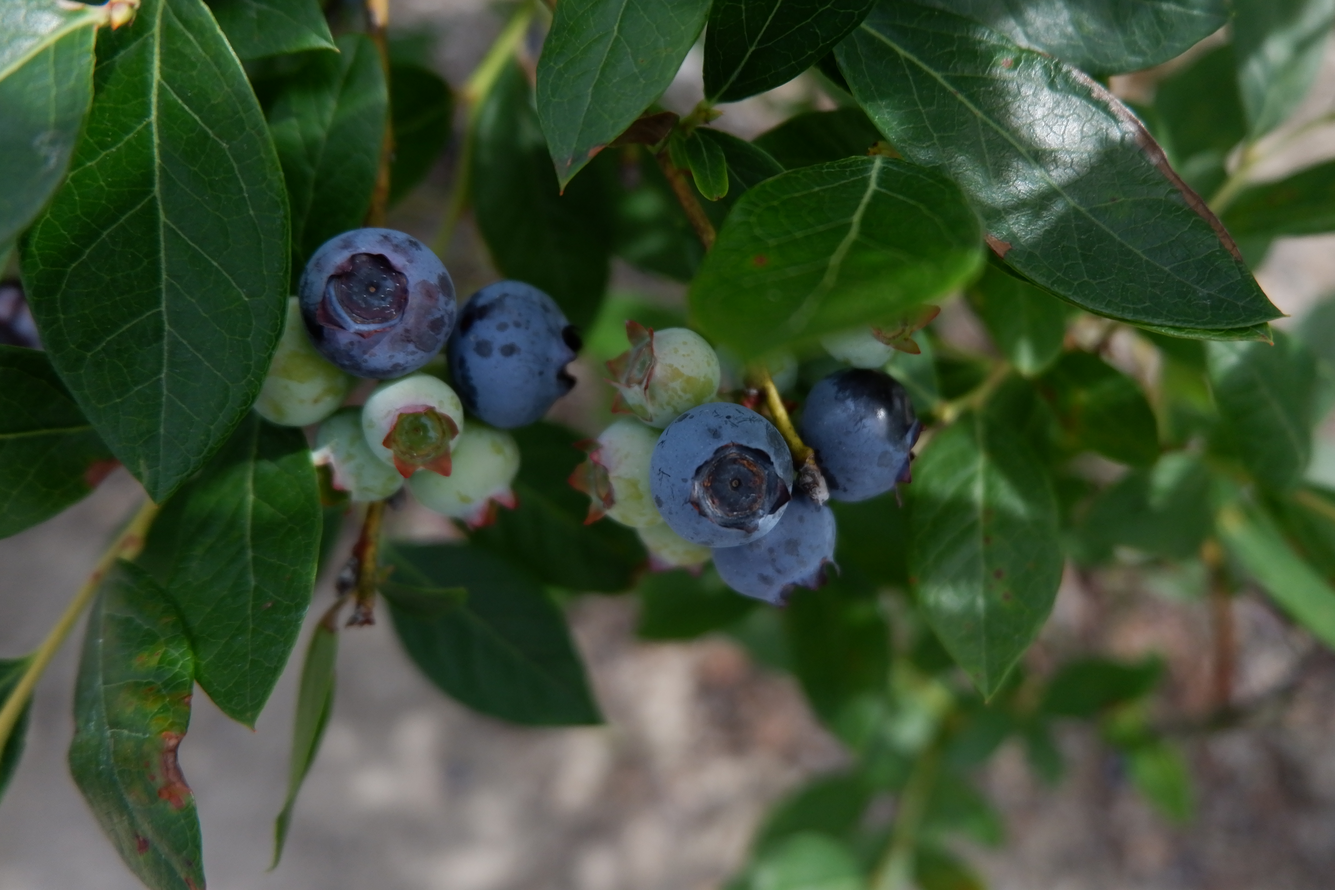Immature: (413, 417, 517, 532), (611, 320, 718, 424), (257, 306, 346, 422), (362, 376, 461, 474), (574, 418, 657, 525), (307, 408, 399, 501), (555, 365, 626, 447), (639, 523, 710, 571)
Mature: (302, 231, 454, 375), (651, 404, 794, 546), (449, 286, 577, 423), (803, 371, 919, 500), (718, 479, 835, 603)
